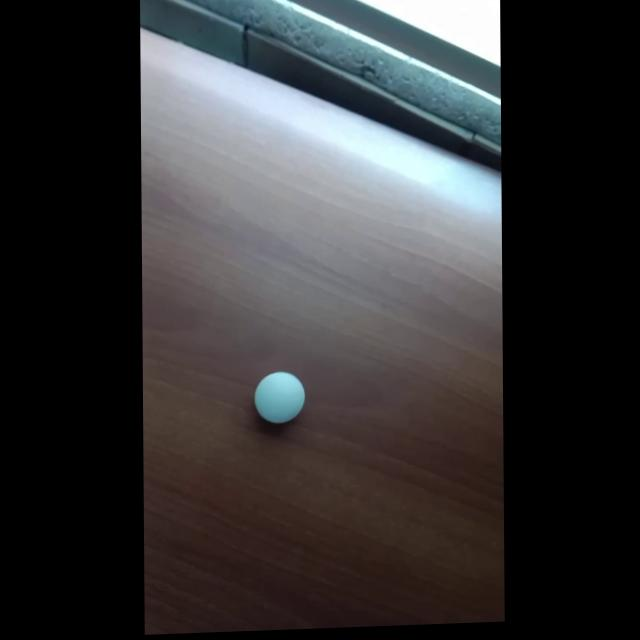white ball: (253, 371, 305, 425)
